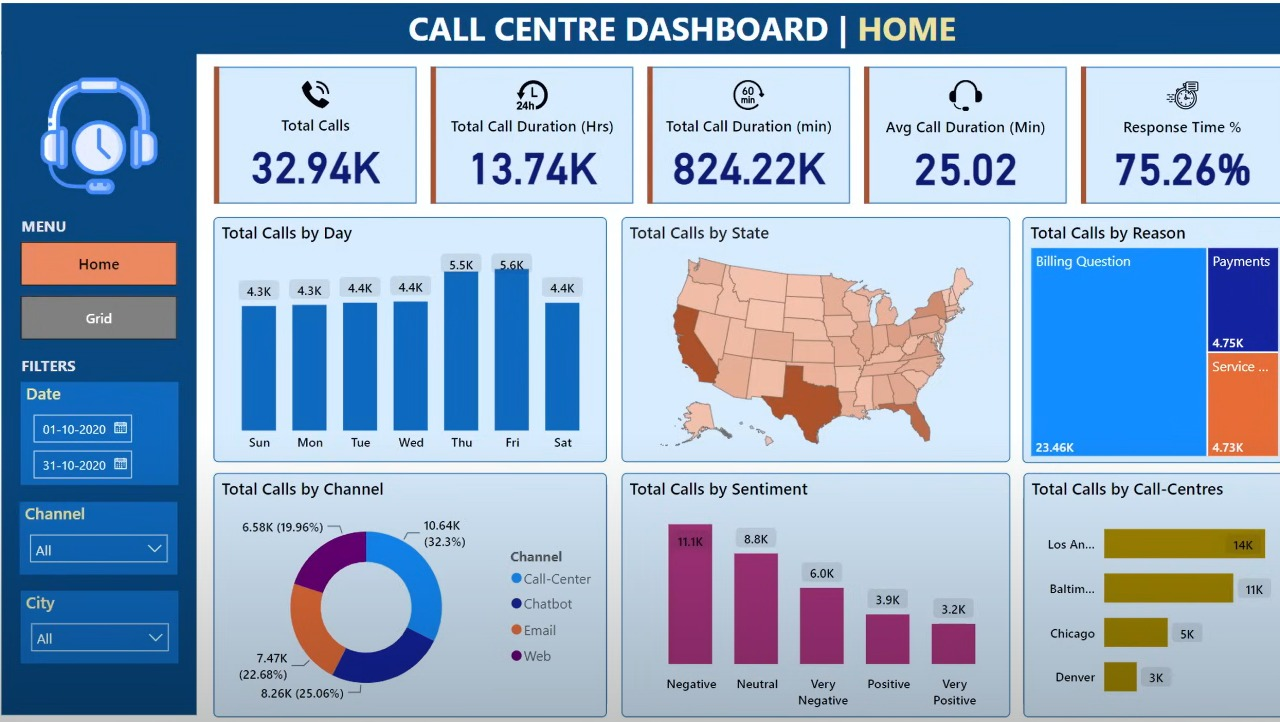

What the dashboard file says about the page in this screenshot:
{"tool":"powerbi","page":{"name":"Home","canvas":[1280,720],"ordinal":0},"visuals":[{"type":"card","fields":{"Values":["calls.Total Calls"]},"box":[232.8,92.9,187,114.6],"z":0},{"type":"card","fields":{"Values":["calls.TCD in Hrs"]},"box":[454.8,90.5,187,114.6],"z":1000},{"type":"card","fields":{"Values":["calls.Total Call Duration(min)"]},"box":[666,94.1,187,113.4],"z":2000},{"type":"card","fields":{"Values":["calls.Avg CD (min)"]},"box":[871.1,96.5,187,111],"z":3000},{"type":"card","fields":{"Values":["calls.Response Time %"]},"box":[1078.6,96.5,187,111],"z":4000},{"type":"clusteredColumnChart","fields":{"Category":["calls.DayOfWeek"],"Y":["calls.Total Calls"]},"box":[182.2,218.4,334.2,223.2],"z":5000},{"type":"shapeMap","fields":{"Category":["calls.State"],"Value":["calls.Total Calls"]},"box":[547.7,218.4,333,223.2],"z":6000},{"type":"treemap","fields":{"Group":["calls.Reason"],"Values":["calls.Total Calls"]},"box":[919.3,217.2,346.2,224.4],"z":7000},{"type":"donutChart","fields":{"Y":["calls.Total Calls"],"Category":["calls.Channel"]},"box":[182.2,459.7,334.2,242.5],"z":8000},{"type":"columnChart","fields":{"Y":["calls.Total Calls"],"Category":["calls.Sentiment"]},"box":[547.7,459.7,352.3,242.5],"z":9000},{"type":"barChart","fields":{"Y":["calls.Total Calls"],"Category":["calls.Call-Centres City"]},"box":[919.3,459.7,346.2,242.5],"z":10000},{"type":"slicer","fields":{"Values":["calls.Call Timestamp"]},"box":[19.3,357.1,149.6,102.5],"z":11000},{"type":"slicer","fields":{"Values":["calls.Channel"]},"box":[19.3,495.8,149.6,70],"z":12000},{"type":"slicer","fields":{"Values":["calls.City"]},"box":[19.3,602,149.6,65.1],"z":13000},{"type":"actionButton","box":[37.4,266.6,100.1,39.8],"z":14001},{"type":"actionButton","box":[37.4,217.2,100.1,41],"z":14002},{"type":"textbox","box":[419.8,12.1,697.3,53.1],"z":14003},{"type":"textbox","box":[55.5,182.2,65.1,25.3],"z":14004},{"type":"image","box":[31.4,53.1,125.5,119.4],"z":14005},{"type":"image","box":[232.8,90.5,53.1,57.9],"z":14006},{"type":"image","box":[442.8,89.3,53.1,41],"z":14007},{"type":"image","box":[657.5,90.5,56.7,50.7],"z":14008},{"type":"image","box":[862.6,90.5,56.7,51.9],"z":14009},{"type":"image","box":[1064.1,88.1,56.7,60.3],"z":14010}]}

Visuals, with their boxes in screenshot pixels (x1, y1, x2, y2), scaled from the page's 1280x720 canvas onto the 1280x722 screenshot:
card - calls.Total Calls: bbox=(233, 93, 420, 208)
card - calls.TCD in Hrs: bbox=(455, 91, 642, 206)
card - calls.Total Call Duration(min): bbox=(666, 94, 853, 208)
card - calls.Avg CD (min): bbox=(871, 97, 1058, 208)
card - calls.Response Time %: bbox=(1079, 97, 1266, 208)
clusteredColumnChart - calls.DayOfWeek x calls.Total Calls: bbox=(182, 219, 516, 443)
shapeMap - calls.State x calls.Total Calls: bbox=(548, 219, 881, 443)
treemap - calls.Reason x calls.Total Calls: bbox=(919, 218, 1266, 443)
donutChart - calls.Total Calls x calls.Channel: bbox=(182, 461, 516, 704)
columnChart - calls.Total Calls x calls.Sentiment: bbox=(548, 461, 900, 704)
barChart - calls.Total Calls x calls.Call-Centres City: bbox=(919, 461, 1266, 704)
slicer - calls.Call Timestamp: bbox=(19, 358, 169, 461)
slicer - calls.Channel: bbox=(19, 497, 169, 567)
slicer - calls.City: bbox=(19, 604, 169, 669)
actionButton: bbox=(37, 267, 138, 307)
actionButton: bbox=(37, 218, 138, 259)
textbox: bbox=(420, 12, 1117, 65)
textbox: bbox=(56, 183, 121, 208)
image: bbox=(31, 53, 157, 173)
image: bbox=(233, 91, 286, 149)
image: bbox=(443, 90, 496, 131)
image: bbox=(658, 91, 714, 142)
image: bbox=(863, 91, 919, 143)
image: bbox=(1064, 88, 1121, 149)
